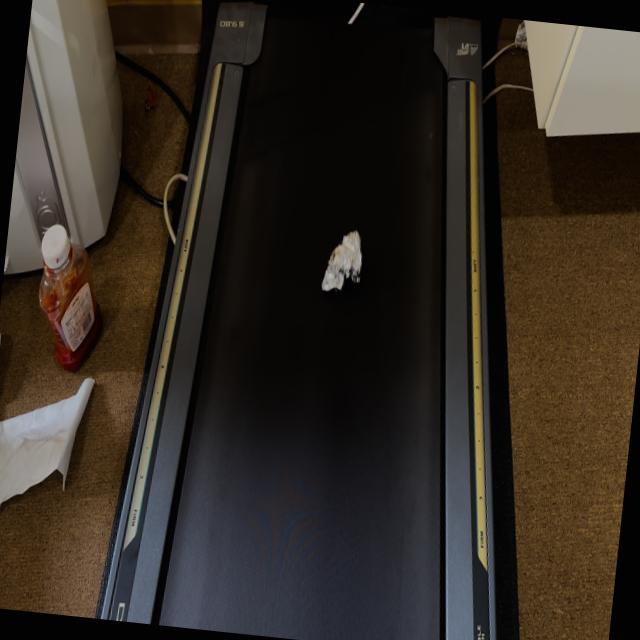Trash: (319, 218, 370, 298)
